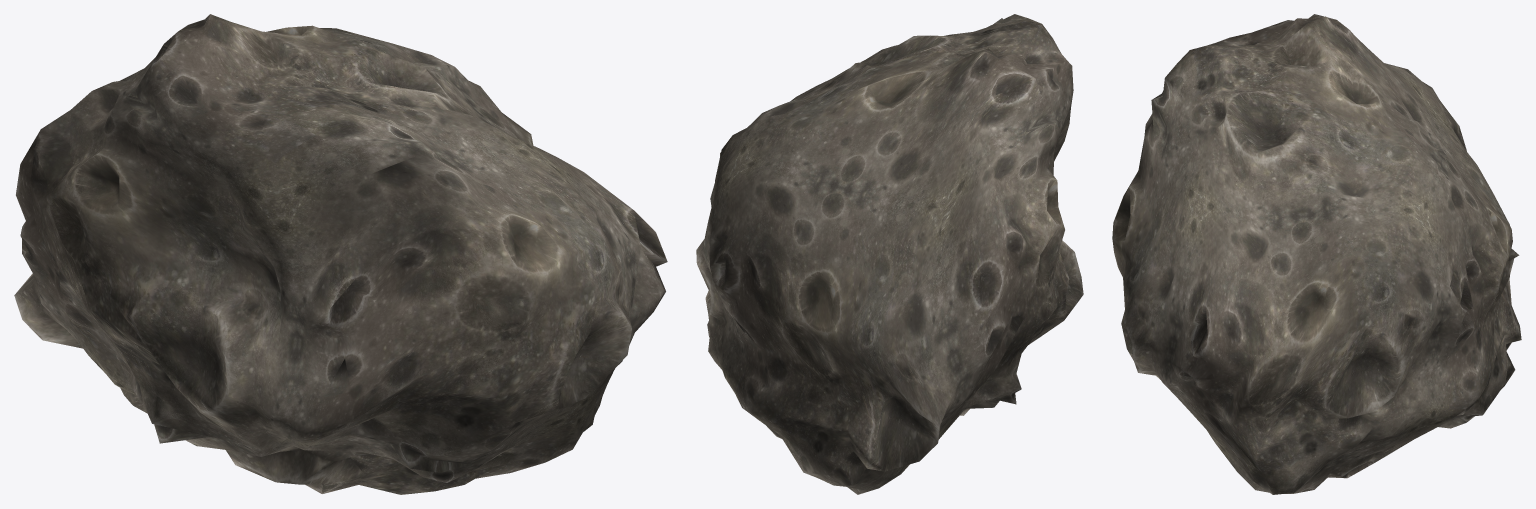
File: Asteroid_01_L0.FBX
The picture shows the model from 3 angles, left to right: view 1: azimuth 30°, elevation 25°; view 2: azimuth 150°, elevation 25°; view 3: azimuth 270°, elevation 25°; orthographic projection. The views are drawn at different scales.
Visible parts, largest first — view 1: Asteroid; view 2: Asteroid; view 3: Asteroid.
Part boxes in pixels (left/top/right/bottom): Asteroid: left=14, top=14, right=667, bottom=494; Asteroid: left=696, top=14, right=1083, bottom=494; Asteroid: left=1112, top=14, right=1521, bottom=494.
Bounding box in the file's own units: 2.4 × 2.43 × 2.32.
